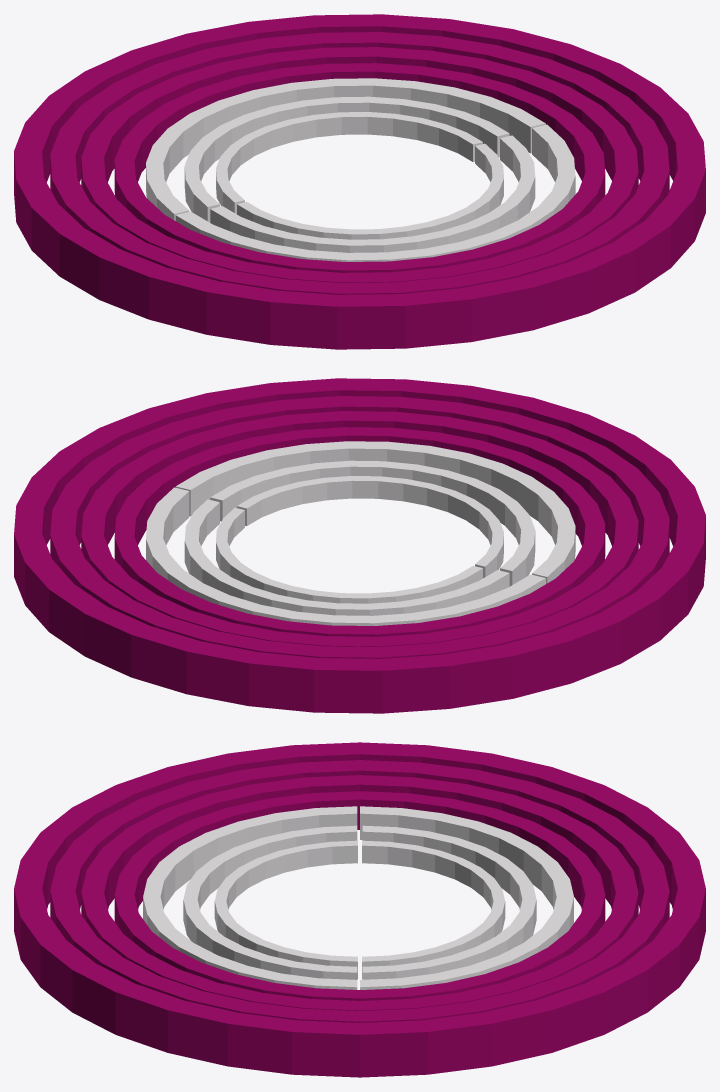
3 views of the same model, one above another, from view 1: azimuth 30°, elevation 25°; view 2: azimuth 150°, elevation 25°; view 3: azimuth 270°, elevation 25° (orthographic).
Visible parts, largest first — view 1: ui.006; view 2: ui.006; view 3: ui.006.
Boxes of the visible parts, x1,y1,x2,y2 form: ui.006: (14,14,705,349); ui.006: (14,378,705,713); ui.006: (14,742,705,1077).
Bounding box in the file's own units: 204 × 13.9 × 204.
